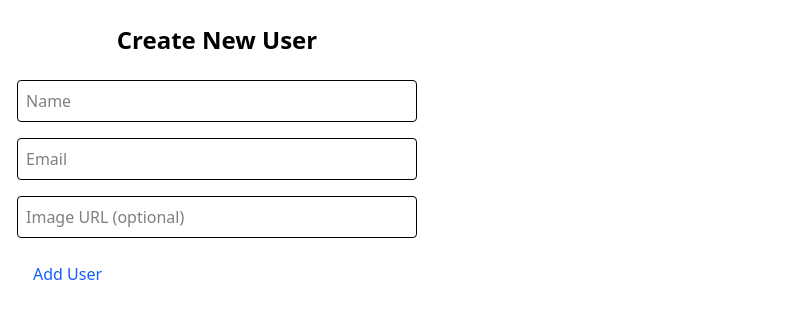
Test: AddUser › submits and shows success
Type "John" into the field with placeholder "Name" at (217, 101), box [17, 80, 417, 122]
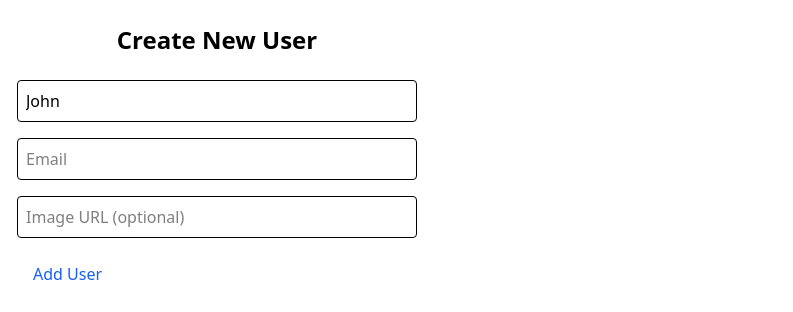
Type "john@example.com" into the field with placeholder "Email" at (217, 159), box [17, 138, 417, 180]
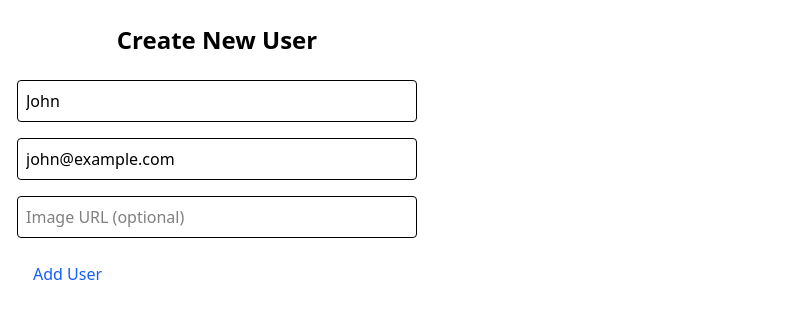
Click the button "Add User" at (68, 274), box [17, 254, 118, 294]
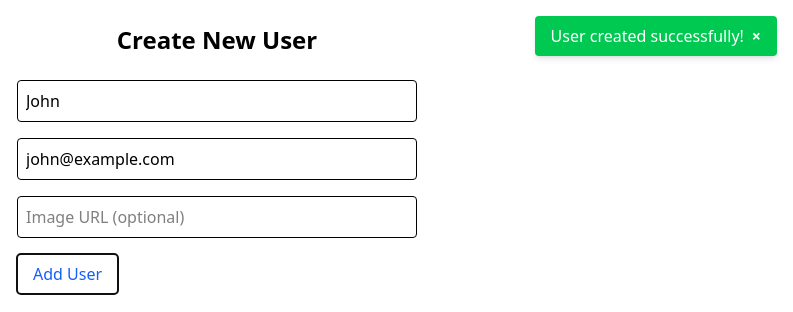
Expected: the text "User created successfully!" is shown, [550, 25, 744, 47]
